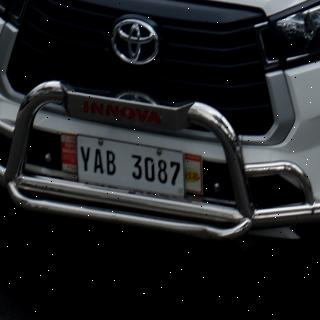license: (79, 137, 185, 199)
